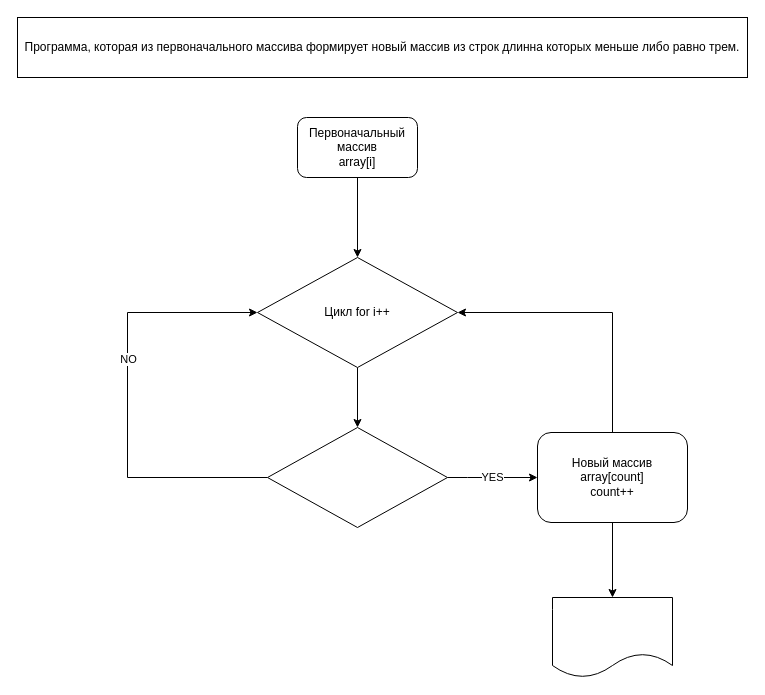
The diagram is 765 pixels wide and 695 high, and some of its shapes have lost their labels. Here are the shapes that lost their labels. From the top down, the centre of each, then its label:
At point 357,477: "if <= 3".
At point 612,637: "print(array[count])".
